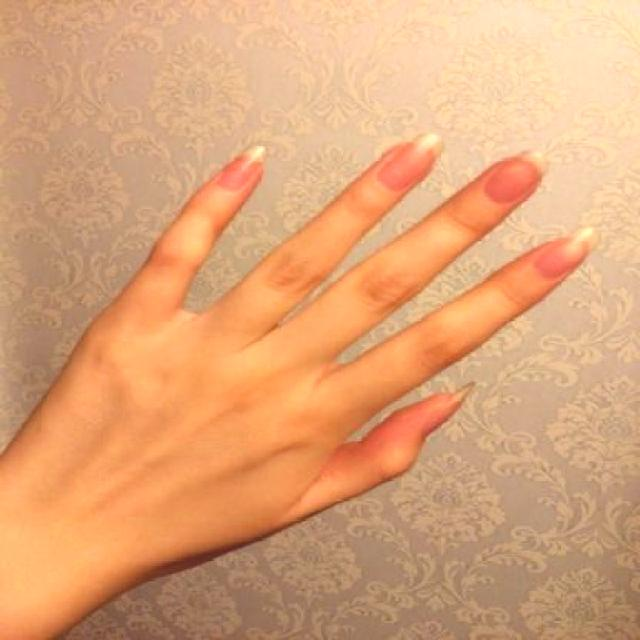hand_noglove: (90, 138, 596, 560)
